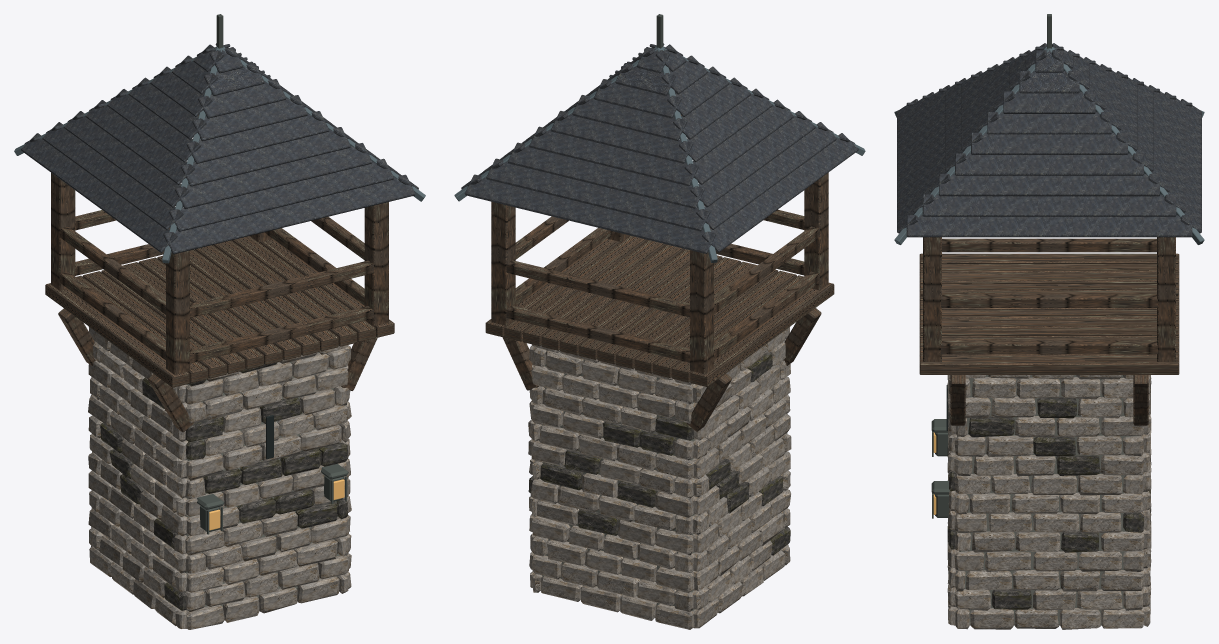
Rendered from watchtower-v002.glb.
The picture shows the model from 3 angles, left to right: view 1: azimuth 30°, elevation 25°; view 2: azimuth 150°, elevation 25°; view 3: azimuth 270°, elevation 25°; orthographic projection. The views are drawn at different scales.
Parts seen in each view (by area): view 1: Balcony rail.012, Hand set stone.455, Hand set stone.453, Tower hip slate.241, Hand set stone.457, Hand set stone.464, Hand set stone.462, Hand set stone.458, Hand set stone.466, Tower hip slate.236, Tower hip slate.239, Tower hip slate.237 (+5 smaller); view 2: Balcony rail.012, Hand set stone.462, Hand set stone.466, Hand set stone.455, Hand set stone.453, Tower hip slate.240, Tower hip slate.236, Hand set stone.464, Hand set stone.458, Tower hip slate.241, Hand set stone.457, Tower hip slate.239 (+4 smaller); view 3: Balcony rail.012, Hand set stone.453, Tower hip slate.241, Hand set stone.458, Hand set stone.462, Tower hip slate.237, Tower hip slate.239, Tower hip slate.236, Hand set stone.466, Tower hip slate.252, Tower hip slate.240, Hand set stone.457 (+6 smaller).
Part boxes in pixels (left/top/right/bottom): Balcony rail.012: left=45, top=115, right=394, bottom=432; Hand set stone.455: left=88, top=343, right=350, bottom=628; Hand set stone.453: left=89, top=345, right=350, bottom=622; Tower hip slate.241: left=24, top=43, right=418, bottom=254; Hand set stone.457: left=100, top=362, right=348, bottom=610; Hand set stone.464: left=88, top=348, right=351, bottom=606; Hand set stone.462: left=88, top=365, right=350, bottom=629; Hand set stone.458: left=88, top=352, right=351, bottom=625; Hand set stone.466: left=88, top=326, right=351, bottom=597; Tower hip slate.236: left=42, top=47, right=415, bottom=209; Tower hip slate.239: left=46, top=76, right=397, bottom=231; Tower hip slate.237: left=65, top=61, right=354, bottom=224; Balcony rail.012: left=485, top=115, right=834, bottom=431; Hand set stone.462: left=529, top=339, right=790, bottom=601; Hand set stone.466: left=537, top=351, right=790, bottom=605; Hand set stone.455: left=529, top=361, right=790, bottom=596; Hand set stone.453: left=528, top=365, right=791, bottom=629; Tower hip slate.240: left=483, top=66, right=846, bottom=243; Tower hip slate.236: left=485, top=44, right=815, bottom=234; Hand set stone.464: left=529, top=327, right=790, bottom=620; Hand set stone.458: left=528, top=344, right=790, bottom=611; Tower hip slate.241: left=507, top=43, right=854, bottom=253; Hand set stone.457: left=528, top=352, right=790, bottom=555; Tower hip slate.239: left=464, top=78, right=833, bottom=248; Balcony rail.012: left=919, top=237, right=1179, bottom=425; Hand set stone.453: left=947, top=375, right=1151, bottom=610; Tower hip slate.241: left=897, top=50, right=1201, bottom=237; Hand set stone.458: left=947, top=375, right=1151, bottom=628; Hand set stone.462: left=947, top=375, right=1151, bottom=629; Tower hip slate.237: left=897, top=53, right=1201, bottom=237; Tower hip slate.239: left=897, top=67, right=1201, bottom=237; Tower hip slate.236: left=897, top=43, right=1201, bottom=237; Hand set stone.466: left=947, top=375, right=1151, bottom=591; Tower hip slate.252: left=897, top=50, right=1192, bottom=237; Tower hip slate.240: left=922, top=57, right=1201, bottom=237; Hand set stone.457: left=947, top=381, right=1151, bottom=609.
Size of the model in its own units: 4.24 by 8.65 by 4.24.
20 materials, 15 textured.
